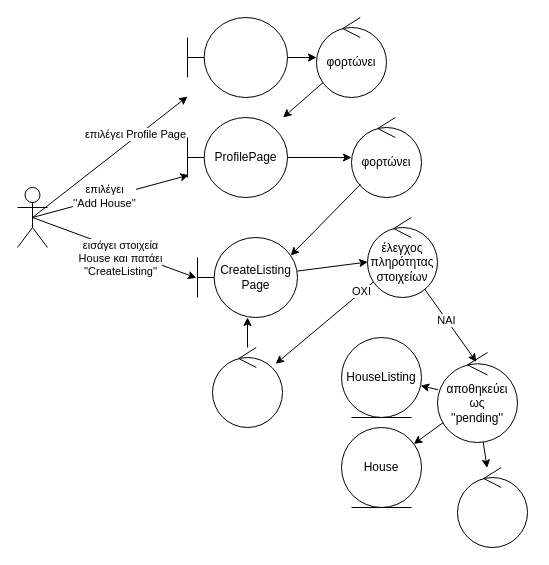
This 549x565 diagram has some shape labels left out. Here are the shapes that lost their labels. From the top down, the centre of each, then its label:
pixel 237 57: NavigationBar
pixel 32 217: User
pixel 247 387: μήνυμα: ελλιπή/ανεπαρκή στοιχεία
pixel 492 507: μήνυμα:House Listing καταχωρήθικε
